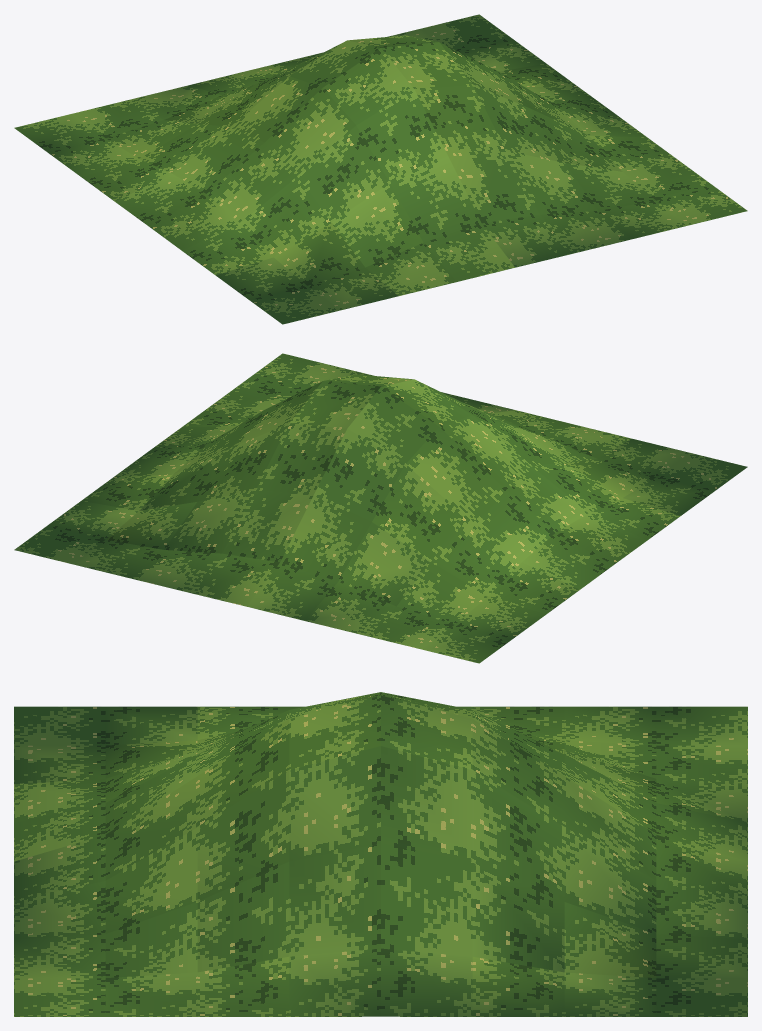
The model's file is mter.hill.glb.
3 views of the same model, one above another, from view 1: azimuth 30°, elevation 25°; view 2: azimuth 150°, elevation 25°; view 3: azimuth 270°, elevation 25° (orthographic). The views are drawn at different scales.
Parts seen in each view (by area): view 1: kit_shell_hill; view 2: kit_shell_hill; view 3: kit_shell_hill.
Part boxes in pixels (left/top/right/bottom): kit_shell_hill: left=14, top=14, right=747, bottom=324; kit_shell_hill: left=14, top=353, right=747, bottom=663; kit_shell_hill: left=14, top=692, right=747, bottom=1016.
Bounding box in the file's own units: 16 × 4 × 16.
1 material, 1 textured.
